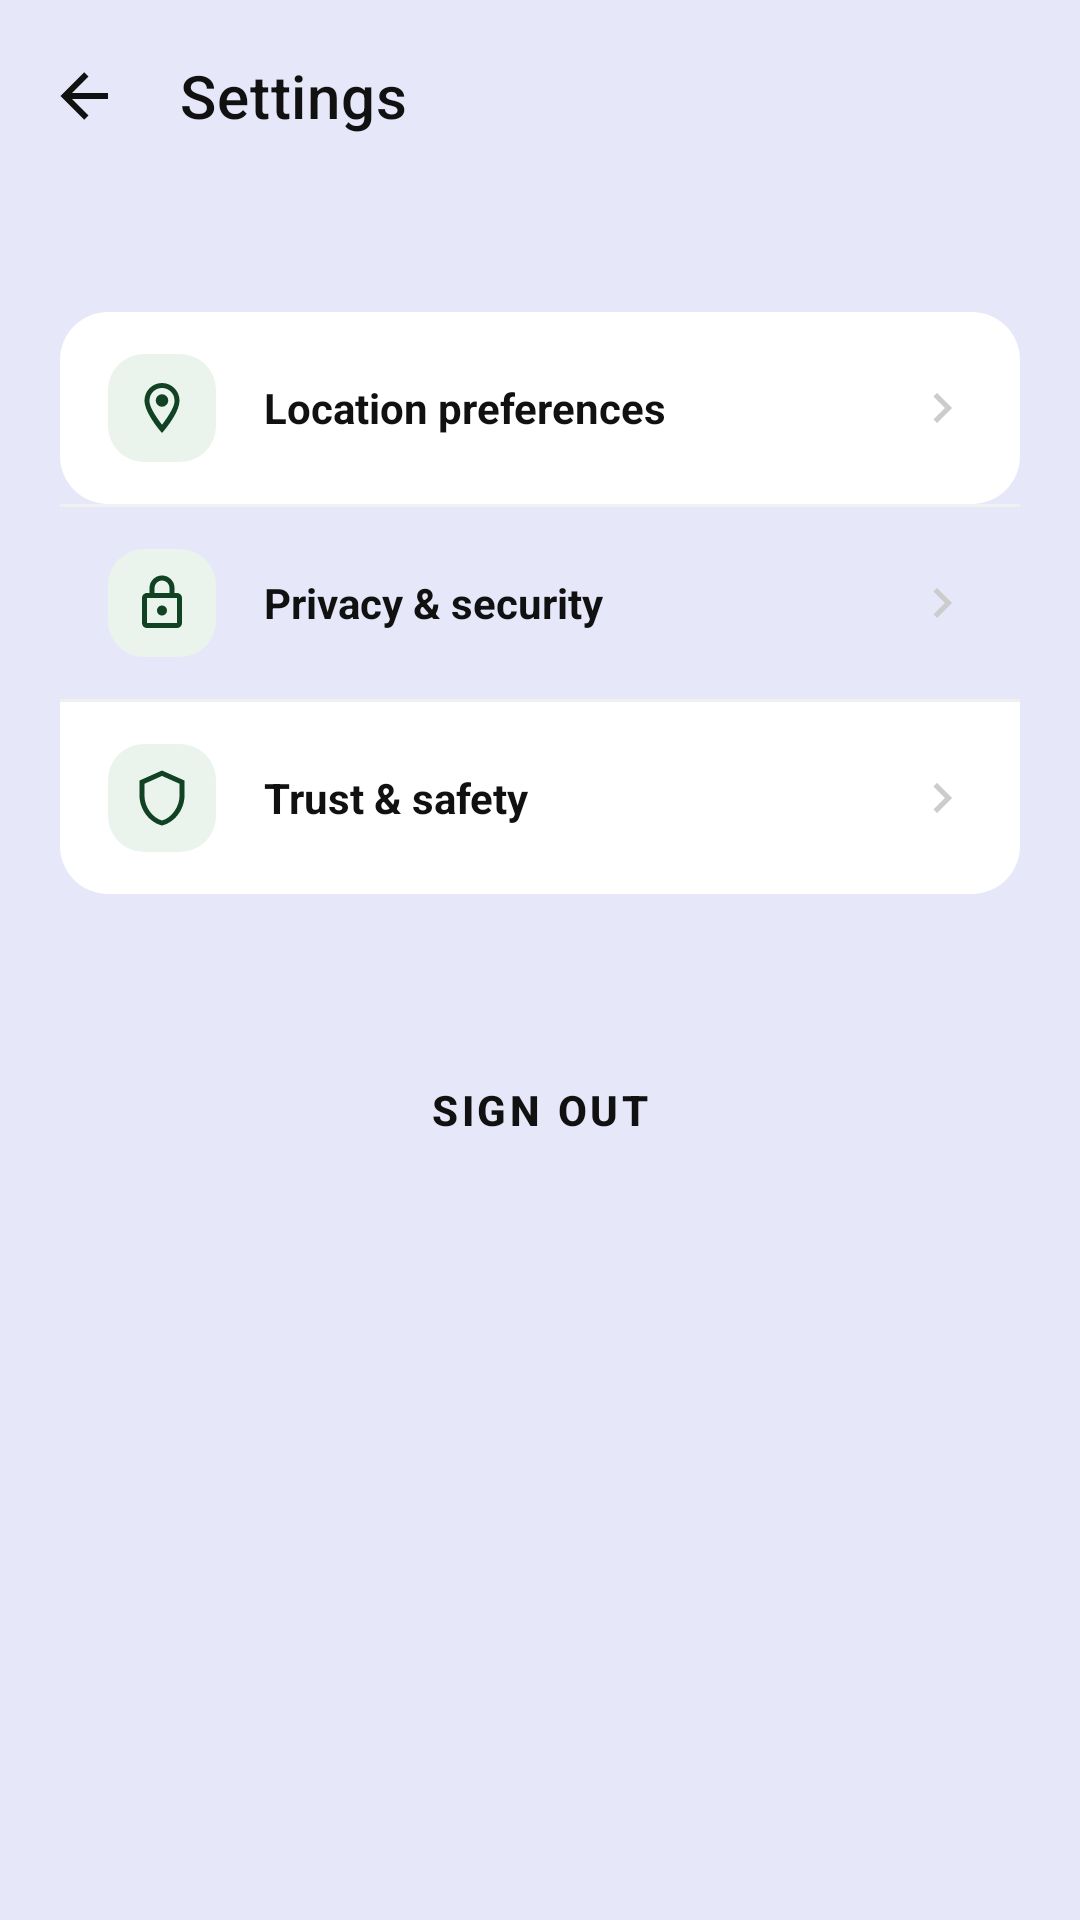

Screen size 1080×1920. Icon name, then its center in pixels as (x=x, y=y):
Chevron: (x=943, y=408), (x=943, y=603), (x=943, y=798)
